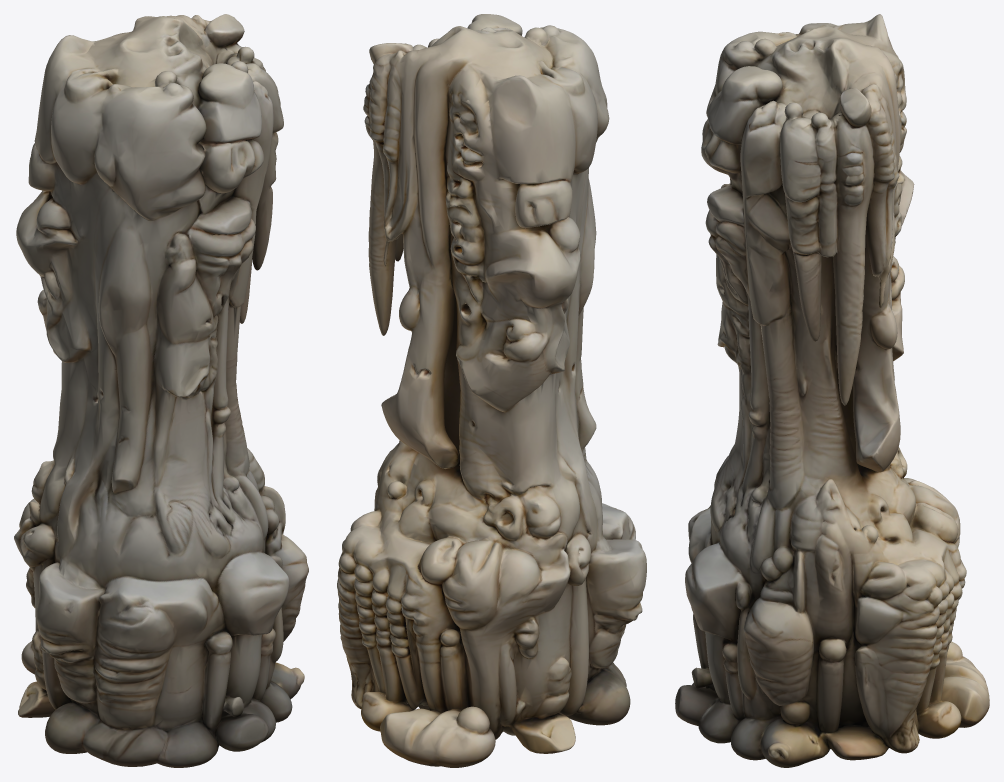
The model's file is nature-cave-pillar.glb.
3 renders of one model, left to right at view 1: azimuth 30°, elevation 25°; view 2: azimuth 150°, elevation 25°; view 3: azimuth 270°, elevation 25°, orthographic.
Visible parts, largest first — view 1: tripo_node_9377a950-a584-436f-8e4a-7f45c851f2d9; view 2: tripo_node_9377a950-a584-436f-8e4a-7f45c851f2d9; view 3: tripo_node_9377a950-a584-436f-8e4a-7f45c851f2d9.
Boxes of the visible parts, bbox=[...] form: tripo_node_9377a950-a584-436f-8e4a-7f45c851f2d9: bbox=[14, 14, 308, 767]; tripo_node_9377a950-a584-436f-8e4a-7f45c851f2d9: bbox=[337, 14, 646, 767]; tripo_node_9377a950-a584-436f-8e4a-7f45c851f2d9: bbox=[675, 14, 989, 767].
Size of the model in its own units: 1.95 by 5 by 2.04.
Materials: 1 (1 with a texture image).
